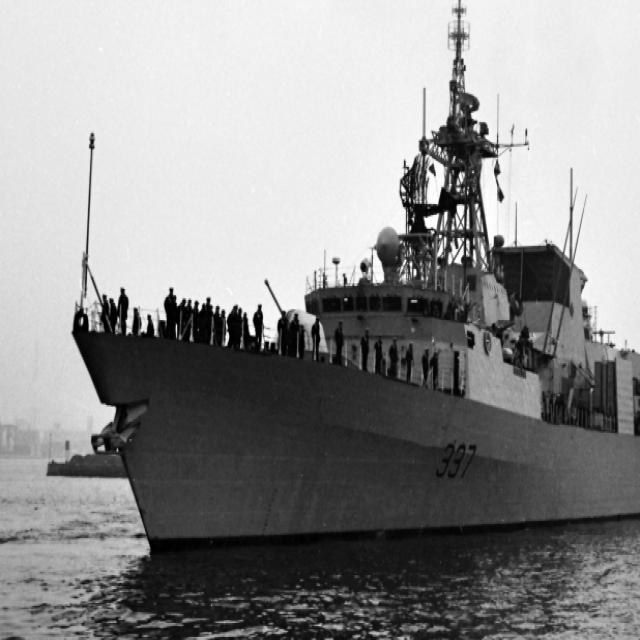Fragata: (72, 1, 640, 576)
